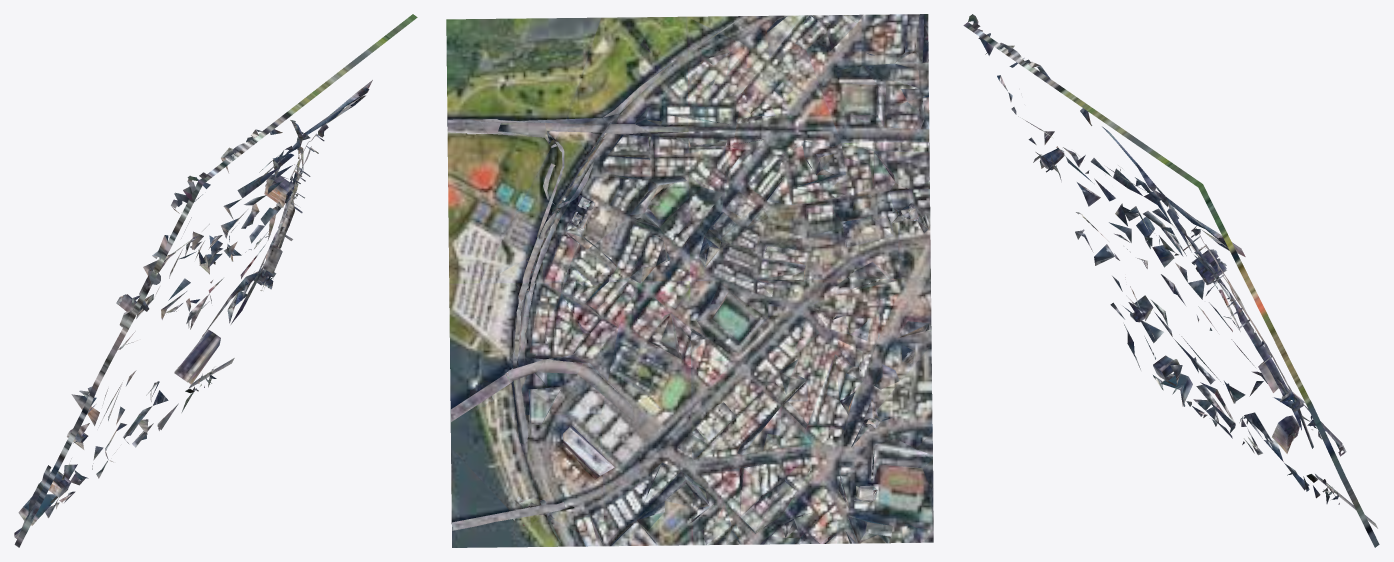
The picture shows the model from 3 angles, left to right: view 1: azimuth 30°, elevation 25°; view 2: azimuth 150°, elevation 25°; view 3: azimuth 270°, elevation 25°; orthographic projection. The views are drawn at different scales.
Size of the model in its own units: 1222 by 1122 by 1027.
Materials: 2 (2 with a texture image).
